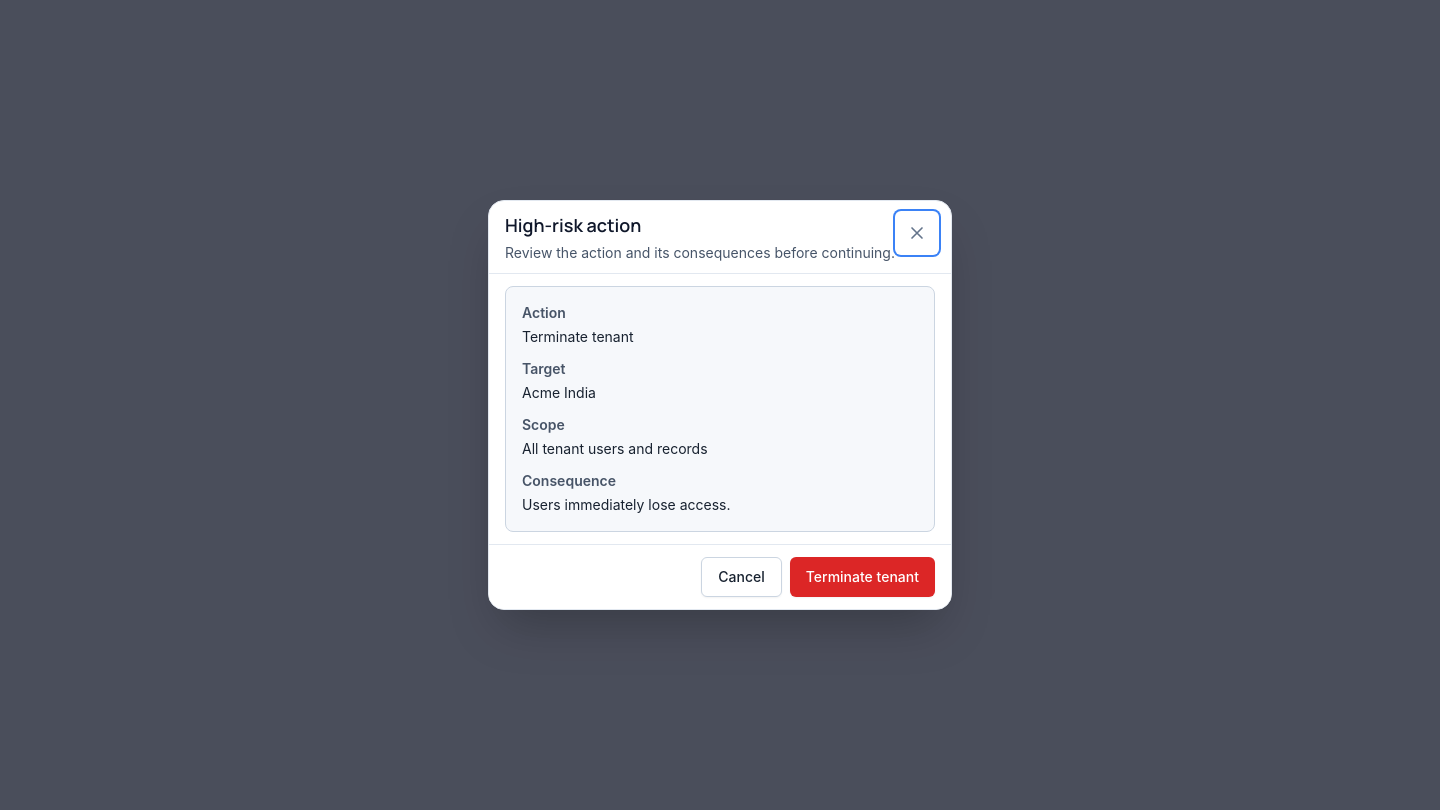
it: HighRiskActionDialog › keeps rejection recovery active after StrictMode replays effect setup
Click the button "Terminate tenant": (862, 577) [790,557,935,597]
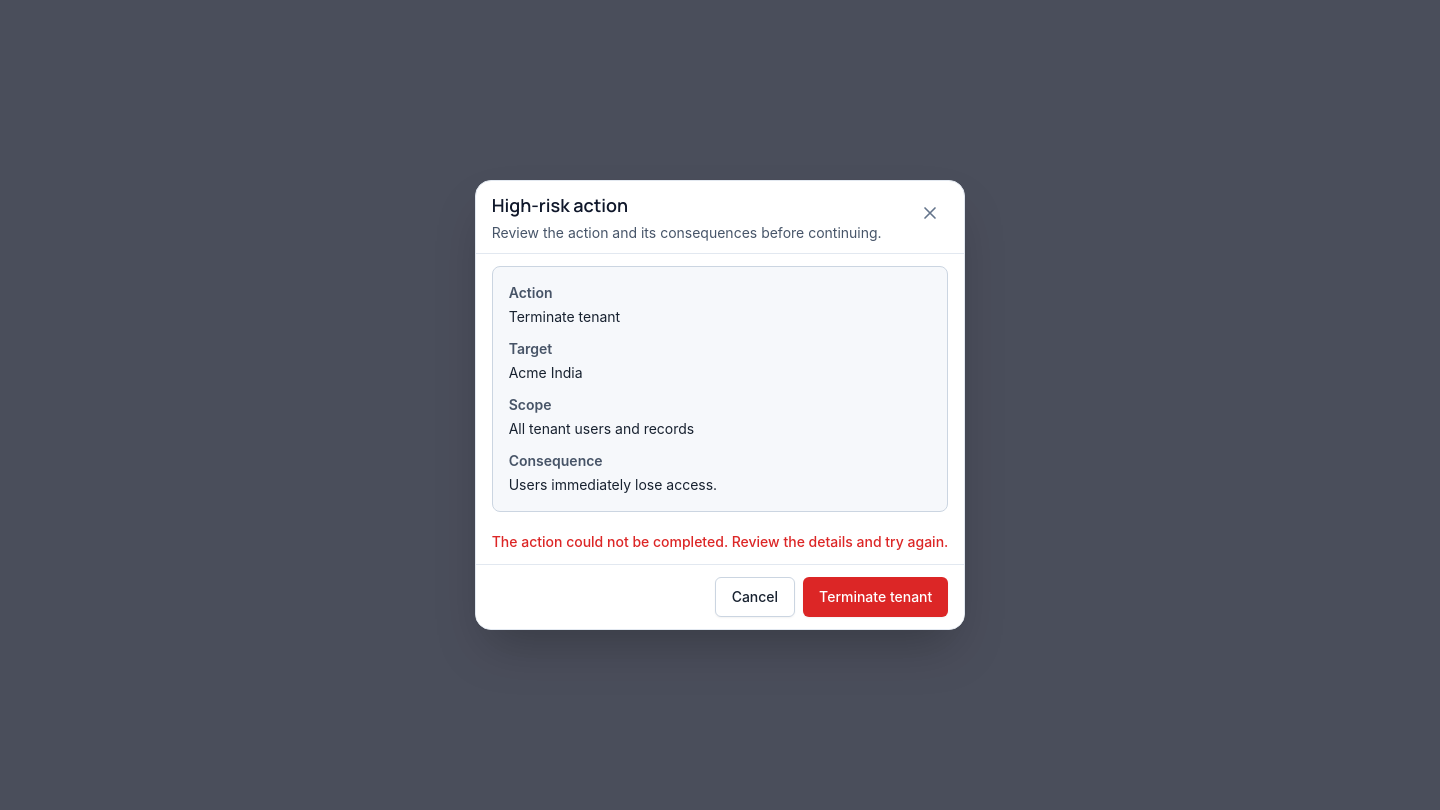
expect the message "The action could not be completed. Review the details and try again." is shown: met, box [492,532,948,552]
expect the message shows "could not be completed": met, box [492,533,948,550]
